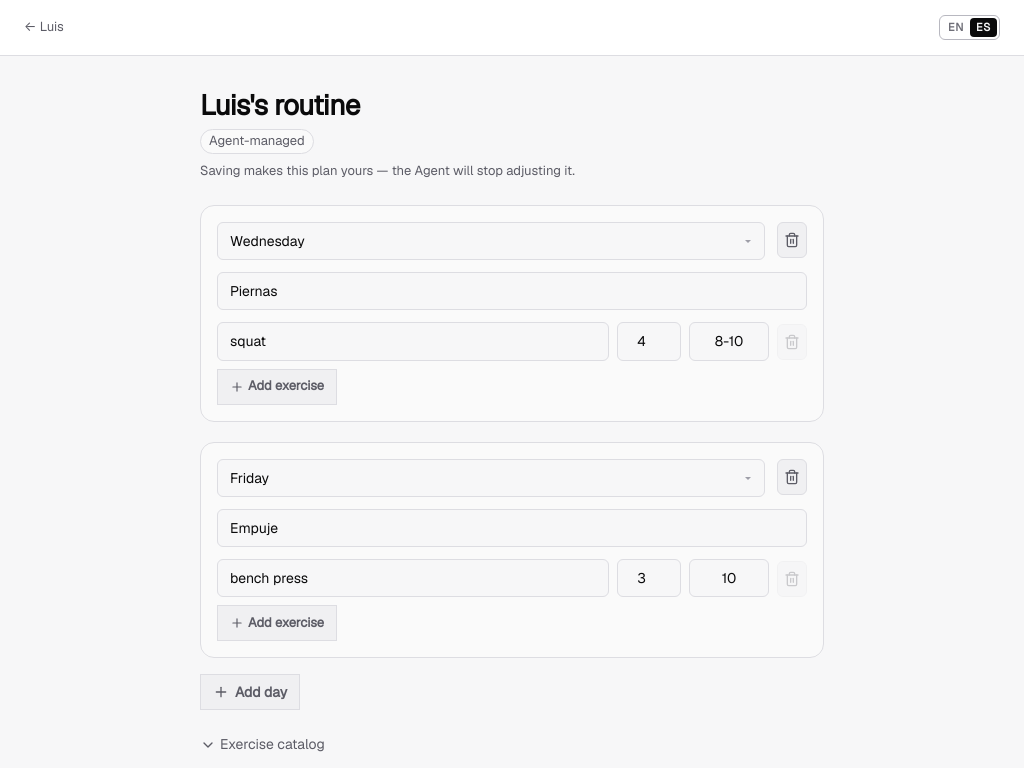
Scenario: RoutineEditor › shows stale refusal with fresh version on screen
Replace the text in the 1st field showing "Piernas" with "COACH-EDIT-CustomName": (512, 291) [217,272,807,310]
(page scrolled)
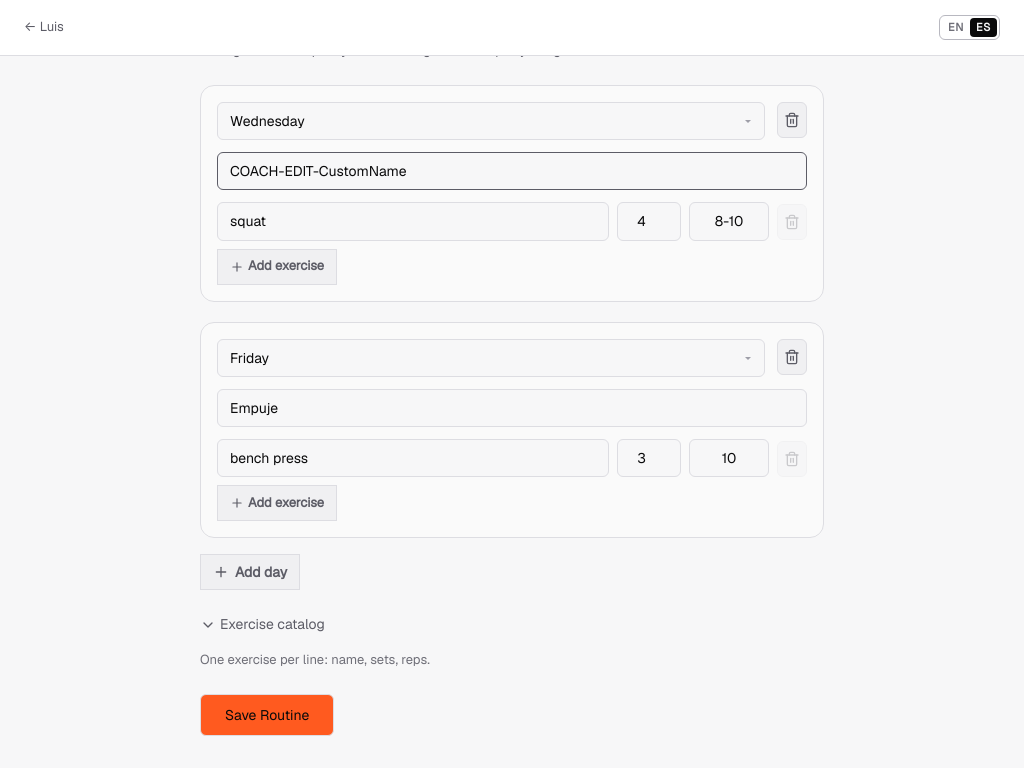
Click the button "Save Routine": click(267, 715) [200,694,334,736]
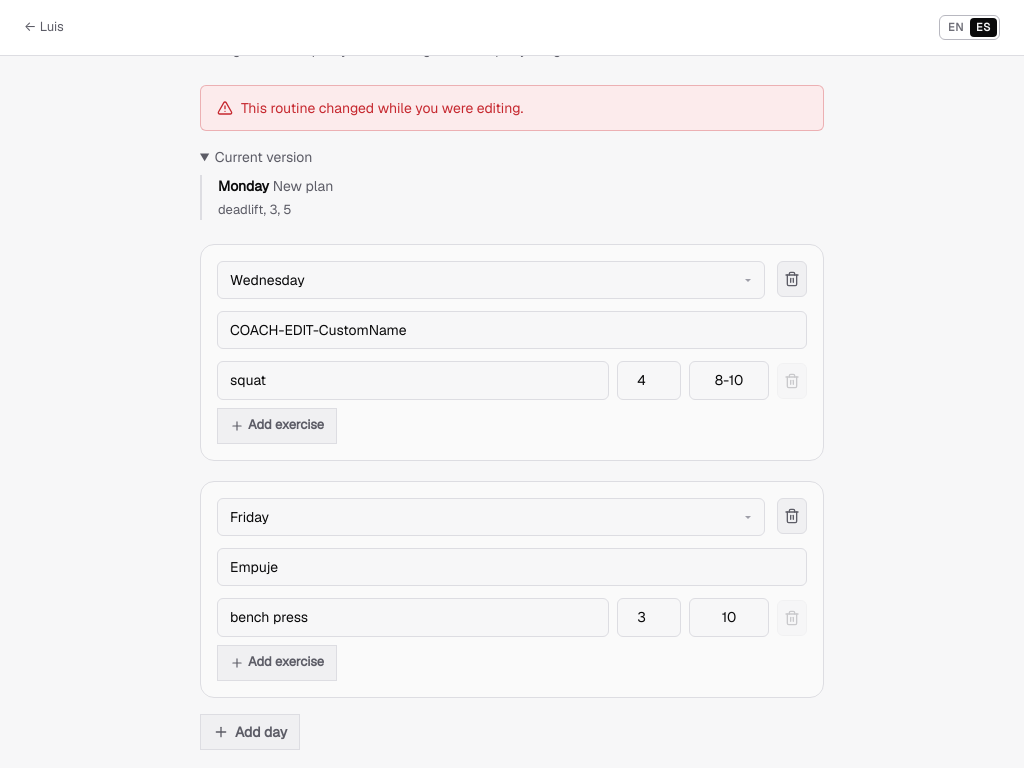
Now the text "This routine changed while you were editing." is shown, box [241,98,523,118]
Now the heading "Current version" is shown, box [215,148,312,166]
Now the text "New plan" is shown, box [273,177,333,195]
